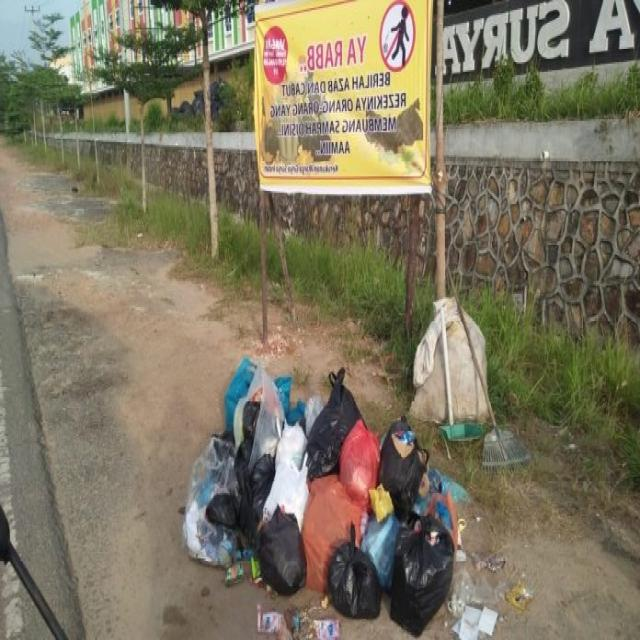sampah-detection: (298, 363, 504, 636), (178, 353, 304, 600), (406, 292, 496, 436), (256, 595, 342, 640)
